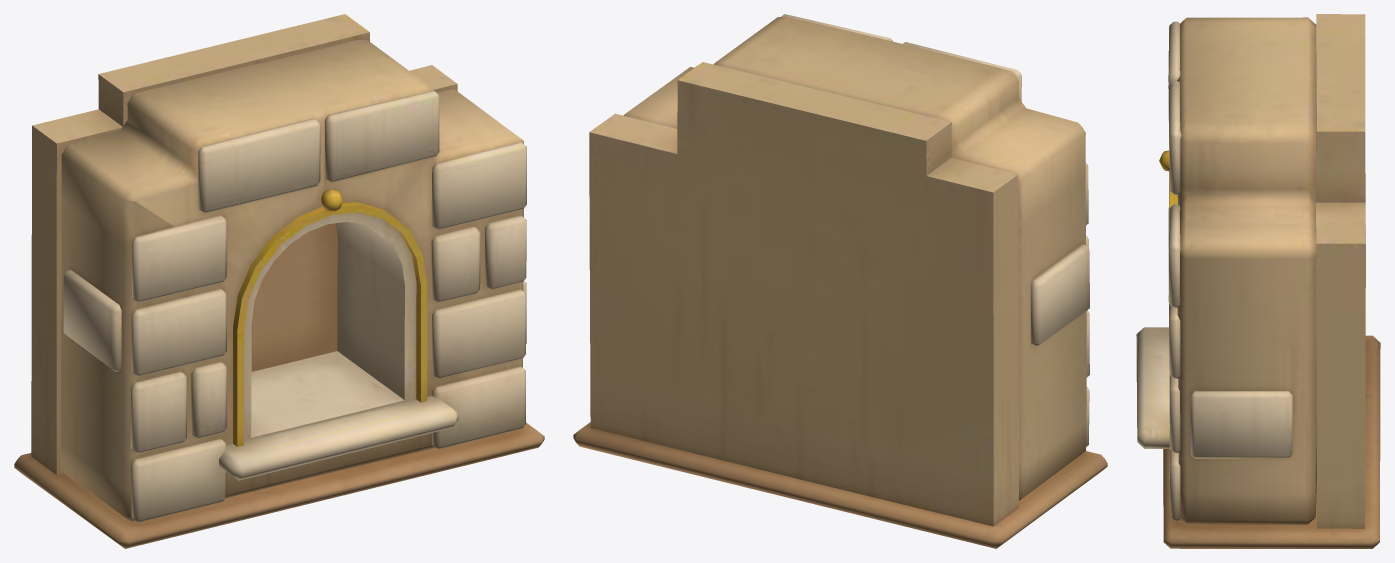
File: wall-niche.glb
3 views of the same model, side by side, from view 1: azimuth 30°, elevation 25°; view 2: azimuth 150°, elevation 25°; view 3: azimuth 270°, elevation 25° (orthographic). The views are drawn at different scales.
Visible parts, largest first — view 1: wall-niche; view 2: wall-niche; view 3: wall-niche.
Boxes of the visible parts, x1,y1,x2,y2 form: wall-niche: [14, 14, 544, 548]; wall-niche: [573, 14, 1107, 548]; wall-niche: [1136, 14, 1380, 548].
Bounding box in the file's own units: 1.28 × 1.1 × 0.6512.
Materials: 4 (4 with a texture image).
